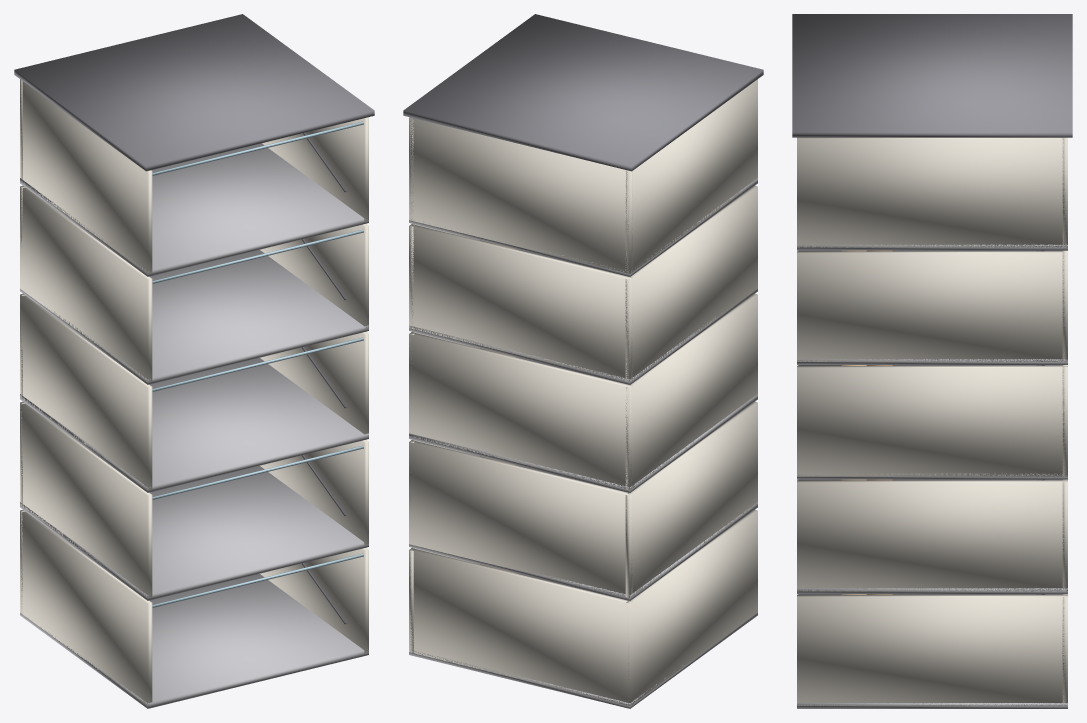
Rendered from building.glb.
The picture shows the model from 3 angles, left to right: view 1: azimuth 30°, elevation 25°; view 2: azimuth 150°, elevation 25°; view 3: azimuth 270°, elevation 25°; orthographic projection. The views are drawn at different scales.
Visible parts, largest first — view 1: Roof_Cap, Floor_3, Floor_0, Floor_1, Floor_2, Floor_4, Floor_2_SlabNode, Floor_1_SlabNode, Floor_3_SlabNode, Floor_0_SlabNode, Floor_4_SlabNode, Floor_1_GlassNode (+4 smaller); view 2: Floor_0, Floor_3, Floor_1, Floor_2, Floor_4, Roof_Cap, Floor_2_SlabNode, Floor_3_SlabNode, Floor_1_SlabNode, Floor_0_SlabNode, Floor_4_SlabNode; view 3: Roof_Cap, Floor_1, Floor_2, Floor_3, Floor_4, Floor_0, Floor_1_SlabNode, Floor_3_SlabNode, Floor_0_SlabNode, Floor_4_SlabNode, Floor_2_SlabNode.
Boxes of the visible parts, box(x1,y1,x2,y2) form: Roof_Cap: box(14, 14, 374, 171); Floor_3: box(20, 185, 368, 381); Floor_0: box(20, 509, 368, 705); Floor_1: box(20, 401, 368, 597); Floor_2: box(20, 293, 368, 489); Floor_4: box(20, 79, 368, 273); Floor_2_SlabNode: box(20, 357, 368, 492); Floor_1_SlabNode: box(20, 465, 368, 600); Floor_3_SlabNode: box(20, 249, 368, 384); Floor_0_SlabNode: box(20, 573, 368, 708); Floor_4_SlabNode: box(20, 143, 368, 276); Floor_1_GlassNode: box(152, 445, 363, 499); Floor_0: box(409, 509, 757, 705); Floor_3: box(409, 185, 757, 381); Floor_1: box(409, 401, 757, 597); Floor_2: box(409, 293, 757, 489); Floor_4: box(409, 79, 757, 273); Roof_Cap: box(403, 14, 763, 171); Floor_2_SlabNode: box(409, 357, 757, 492); Floor_3_SlabNode: box(409, 249, 757, 384); Floor_1_SlabNode: box(409, 465, 757, 600); Floor_0_SlabNode: box(409, 573, 757, 708); Floor_4_SlabNode: box(409, 178, 757, 276); Roof_Cap: box(792, 14, 1072, 137); Floor_1: box(797, 479, 1067, 591); Floor_2: box(797, 365, 1067, 476); Floor_3: box(797, 250, 1067, 361); Floor_4: box(797, 137, 1067, 247); Floor_0: box(797, 594, 1067, 705); Floor_1_SlabNode: box(797, 479, 1067, 594); Floor_3_SlabNode: box(797, 250, 1067, 364); Floor_0_SlabNode: box(797, 594, 1067, 708); Floor_4_SlabNode: box(797, 244, 1067, 250); Floor_2_SlabNode: box(797, 365, 1067, 479).
Size of the model in its own units: 9.3 by 21.2 by 9.3.
